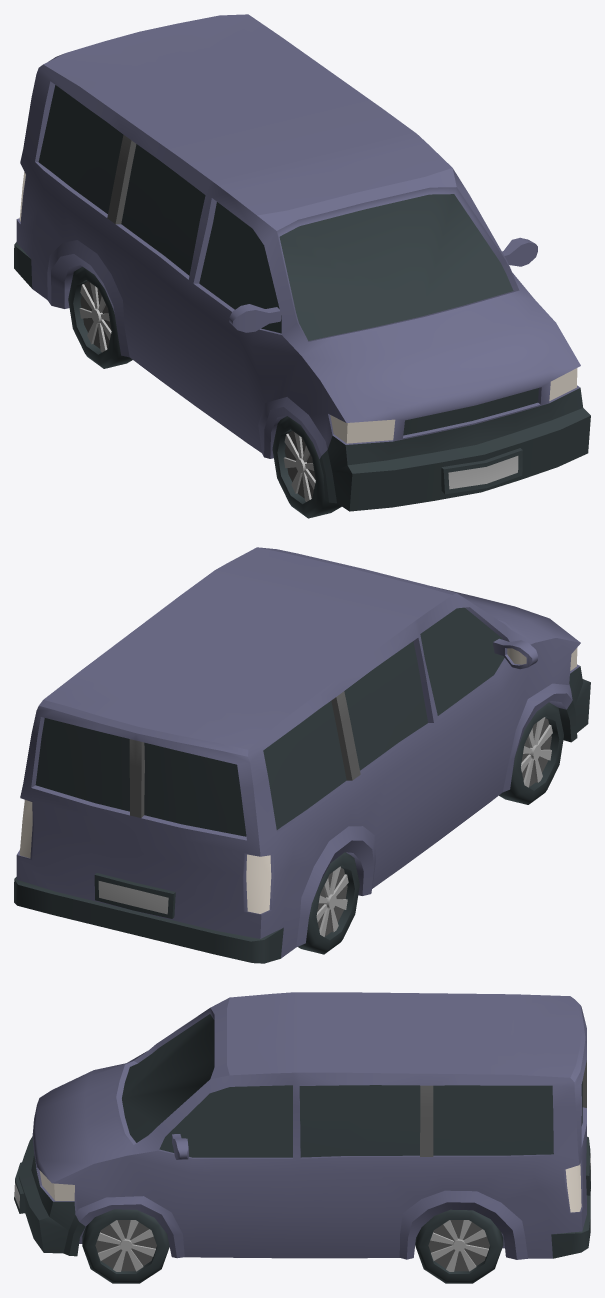
The model's file is Car_04.fbx.
3 views of the same model, one above another, from view 1: azimuth 30°, elevation 25°; view 2: azimuth 150°, elevation 25°; view 3: azimuth 270°, elevation 25° (orthographic). The views are drawn at different scales.
Visible parts, largest first — view 1: Car_04; view 2: Car_04; view 3: Car_04.
Part boxes in pixels (left/top/right/bottom): Car_04: left=14, top=14, right=590, bottom=518; Car_04: left=14, top=547, right=590, bottom=963; Car_04: left=14, top=992, right=590, bottom=1283.
Size of the model in its own units: 0.2033 by 0.1595 by 0.4089.
